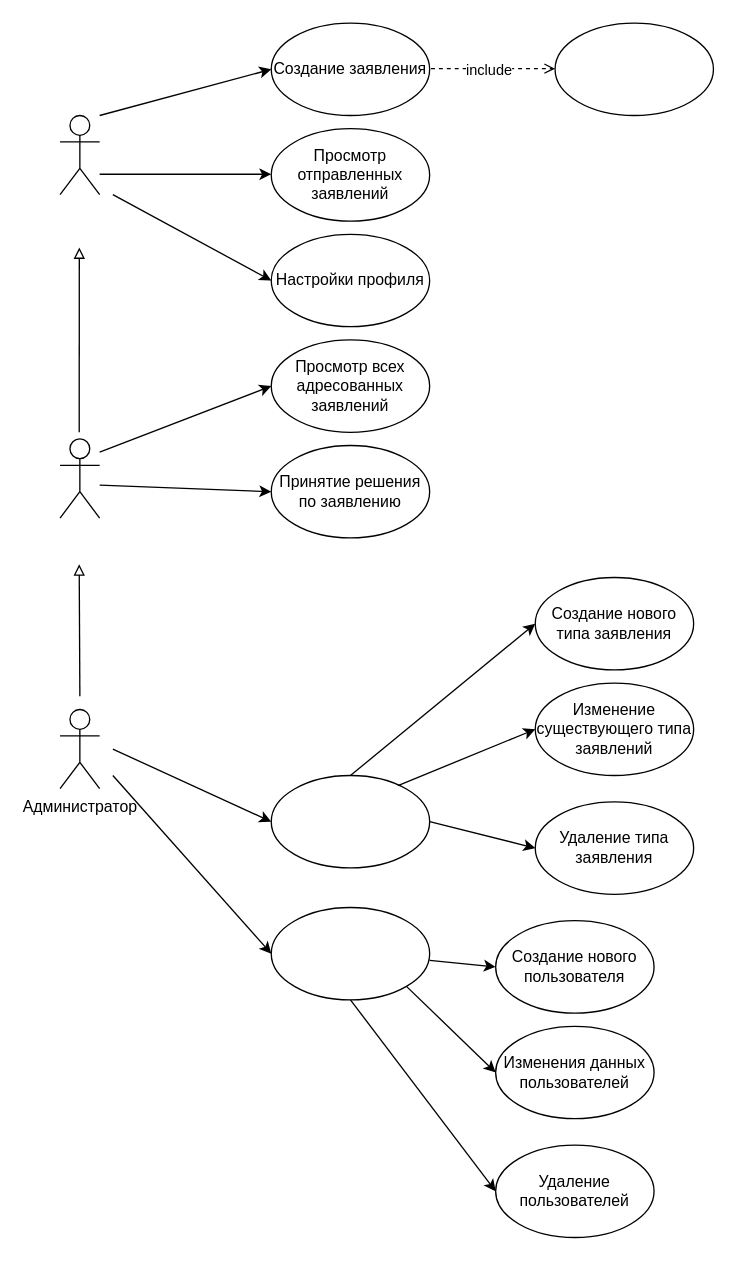
The diagram is 737 pixels wide and 1261 high, and some of its shapes have lost their labels. The centre of each missing label's shape, as x and y in pixels:
Выбор шаблона: point (633, 69)
Руководитель: point (79, 478)
Сотрудник: point (79, 154)
Управление пользователями: point (350, 953)
Управление шаблонами заявлений: point (350, 821)
